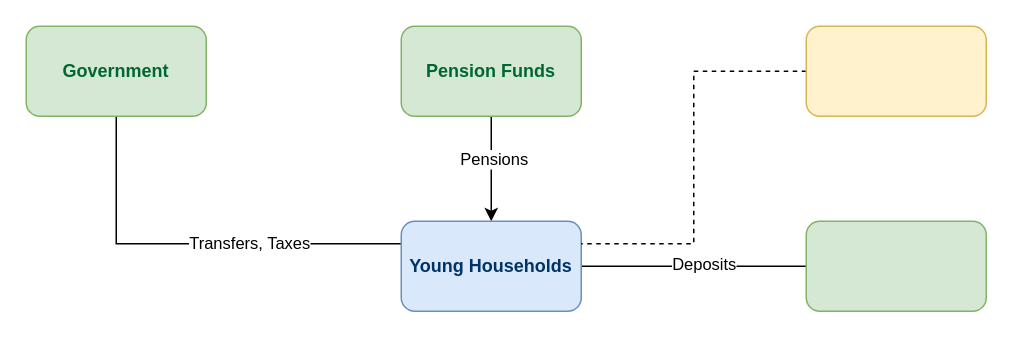
Some shapes in this 1013 by 338 pixel diagram are drawn without their labels. Here are the shapes that lost their labels. From the top down, the centre of each, then its label:
At (x=895, y=70): "Housing Market".
At (x=895, y=265): "Banks".
